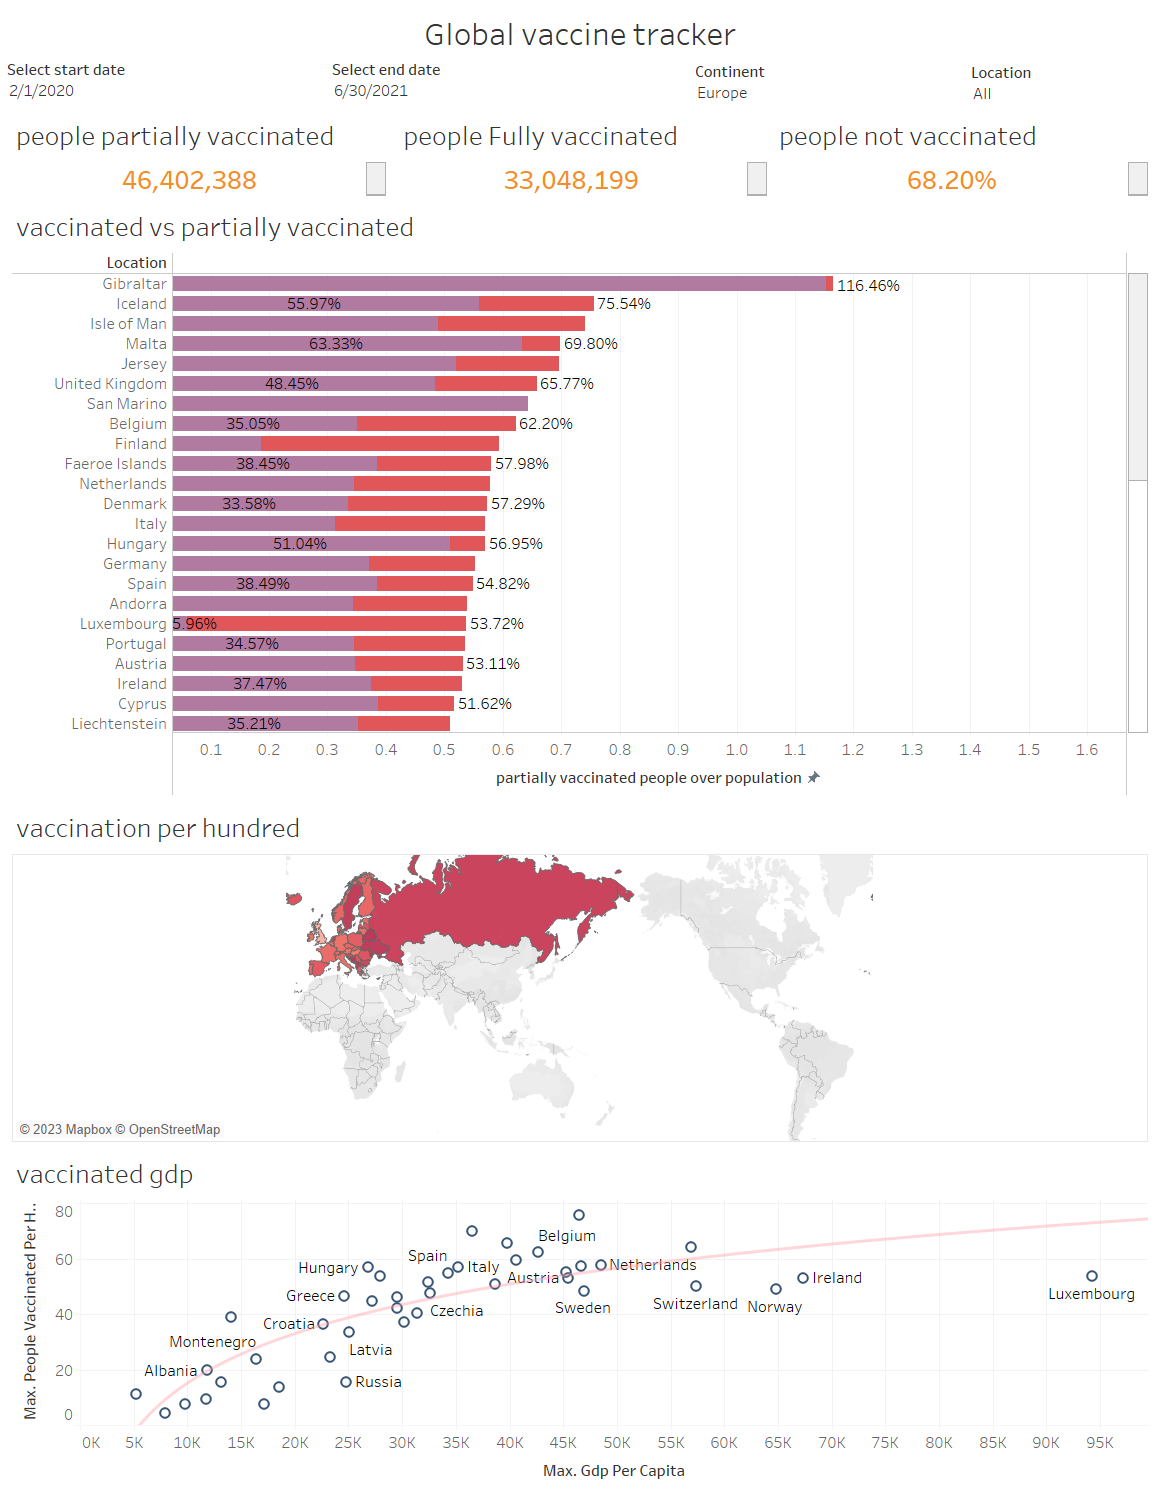

What the dashboard file says about the page in this screenshot:
{"tool":"tableau","page":{"name":"Global vaccine tracker","canvas":[1160,1500],"ordinal":0},"visuals":[{"type":"worksheet","title":"people partially vaccinated","mark":"Automatic","box":[8,8,382,121]},{"type":"worksheet","title":" people Fully vaccinated","mark":"Automatic","box":[390,8,381,121]},{"type":"worksheet","title":"people not vaccinated","mark":"Automatic","box":[771,8,381,121]},{"type":"worksheet","title":"vaccinated vs partially vaccinated","mark":"Bar","rows":["Location"],"cols":["Calculation_1398086260879011840","Calculation_1398086260880388099"],"box":[8,129,1144,621]},{"type":"worksheet","title":"vaccination per hundred","mark":"Automatic","box":[8,750,1144,371]},{"type":"worksheet","title":"vaccinated gdp","mark":"Automatic","rows":["People Vaccinated Per Hundred"],"cols":["Gdp Per Capita"],"box":[8,1120.9,1144,371.1]}]}

Visuals, with their boxes in screenshot pixels (x1, y1, x2, y2), scaled from the page's 1160x1500 canvas onto the 1160x1500 screenshot:
"people partially vaccinated" worksheet: [8,8,390,129]
" people Fully vaccinated" worksheet: [390,8,771,129]
"people not vaccinated" worksheet: [771,8,1152,129]
"vaccinated vs partially vaccinated" worksheet (Bar marks): [8,129,1152,750]
"vaccination per hundred" worksheet: [8,750,1152,1121]
"vaccinated gdp" worksheet: [8,1121,1152,1492]
